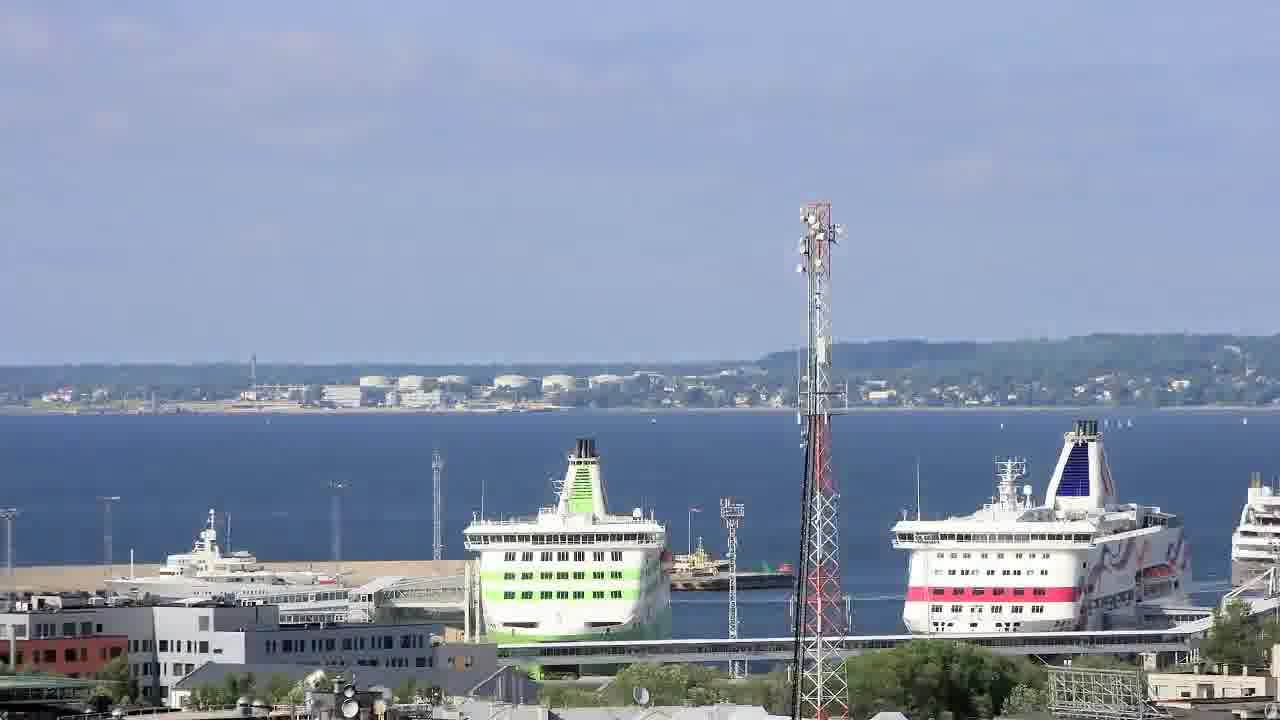type-3: (868, 415, 1225, 638), (436, 434, 694, 670), (93, 512, 354, 606), (1235, 465, 1279, 608)
